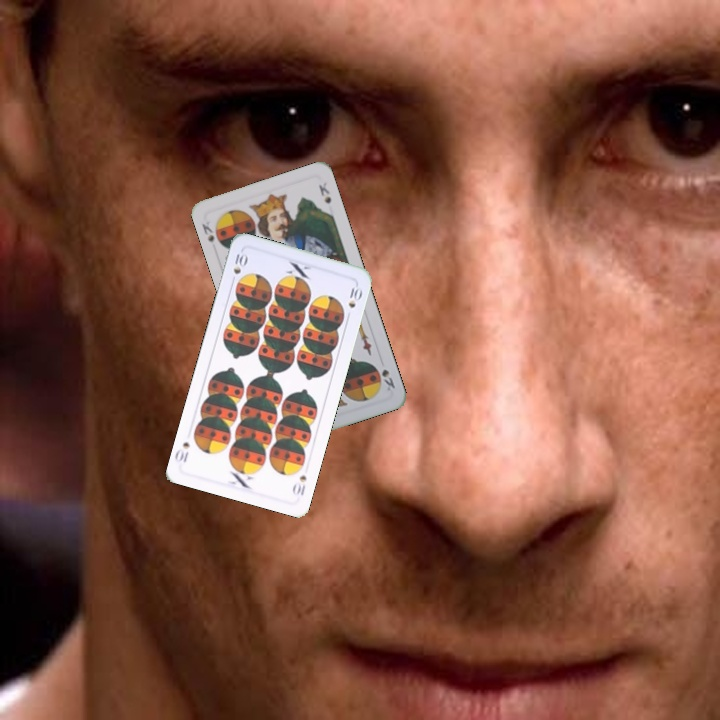S10: (227, 247, 250, 287), (289, 471, 309, 498)
SK: (372, 361, 398, 393), (198, 217, 217, 246)
